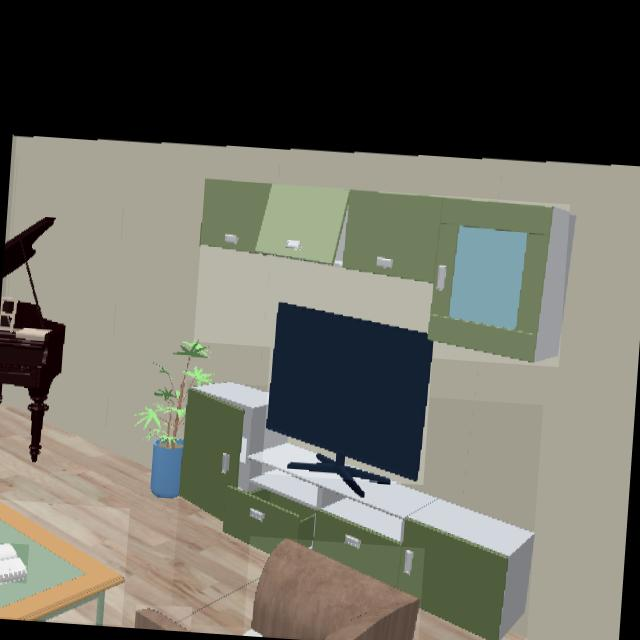book: (0, 544, 26, 582)
cabinet: (179, 383, 534, 640), (201, 180, 564, 364)
monitor: (264, 305, 432, 484)
sofa: (244, 539, 420, 640), (135, 605, 190, 632)
table: (0, 503, 124, 619)
